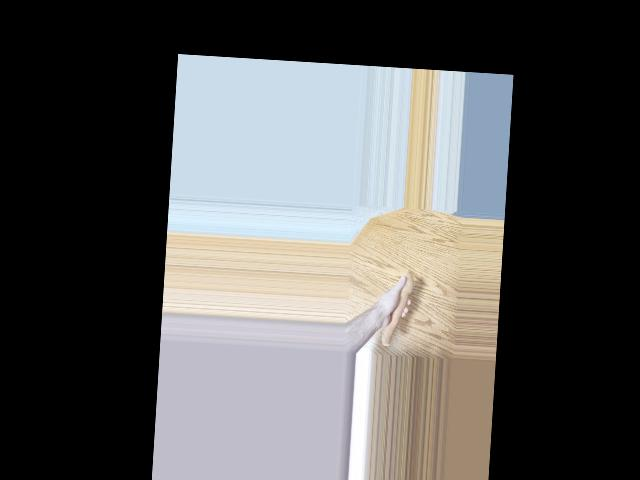sweet_potato: (378, 271, 417, 348)
